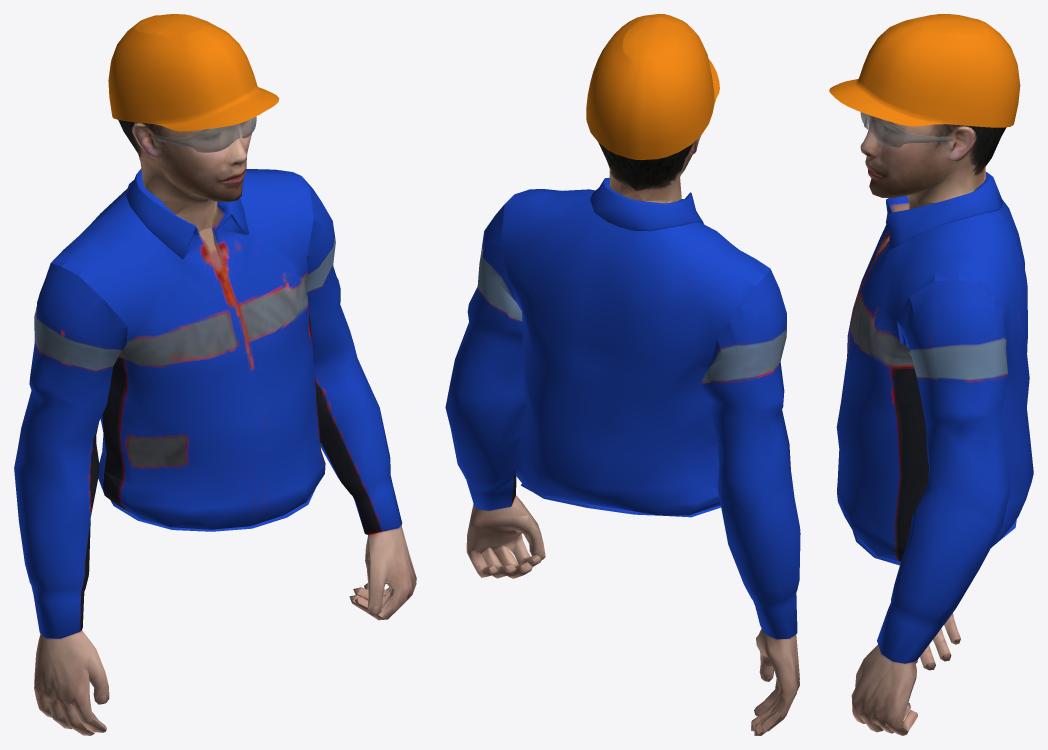
Rendered from workertest.FBX.
3 views of the same model, side by side, from view 1: azimuth 30°, elevation 25°; view 2: azimuth 150°, elevation 25°; view 3: azimuth 270°, elevation 25° (orthographic). The views are drawn at different scales.
Visible parts, largest first — view 1: 静止人072ok; view 2: 静止人072ok; view 3: 静止人072ok.
Part boxes in pixels (x1,y1,x2,y2): 静止人072ok: (14,14,416,735); 静止人072ok: (445,14,800,735); 静止人072ok: (829,14,1033,735).
Size of the model in its own units: 612 by 1117 by 297.
